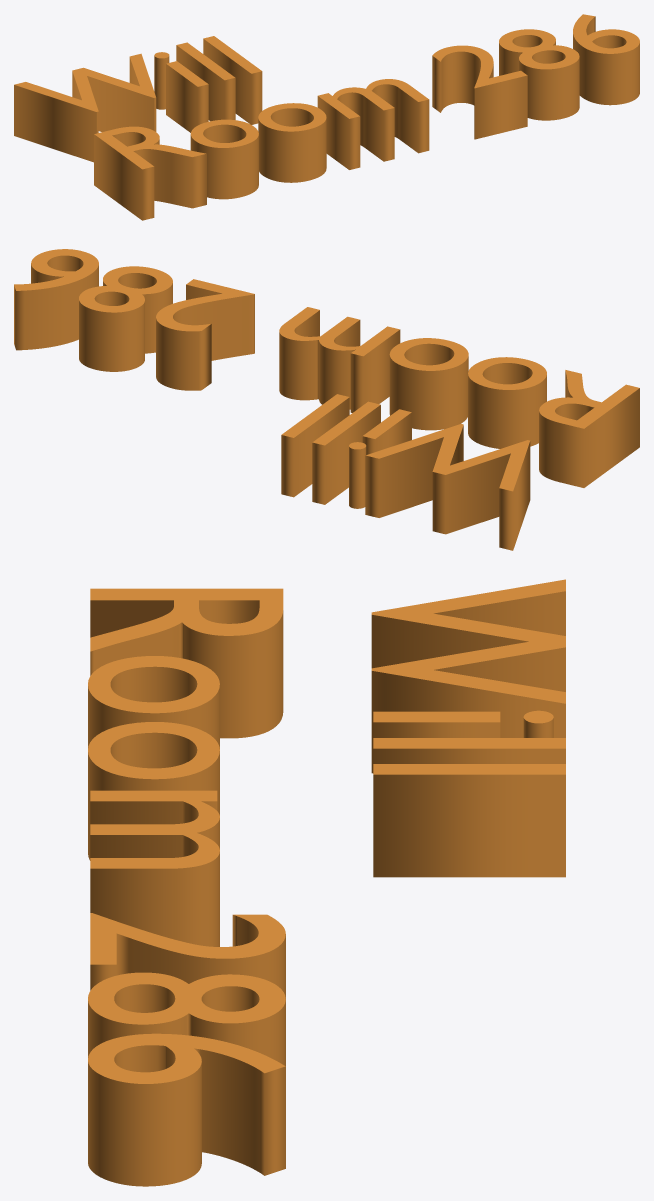
Rendered from will-286.gltf.
3 renders of one model, top to bottom at view 1: azimuth 30°, elevation 25°; view 2: azimuth 150°, elevation 25°; view 3: azimuth 270°, elevation 25°, orthographic. The views are drawn at different scales.
Visible parts, largest first — view 1: Text; view 2: Text; view 3: Text.
Boxes of the visible parts, x1=… form: Text: x1=14, y1=14, x2=639, y2=220; Text: x1=14, y1=249, x2=639, y2=550; Text: x1=88, y1=579, x2=565, y2=1186.
Size of the model in its own units: 4.22 by 0.4 by 1.69.
